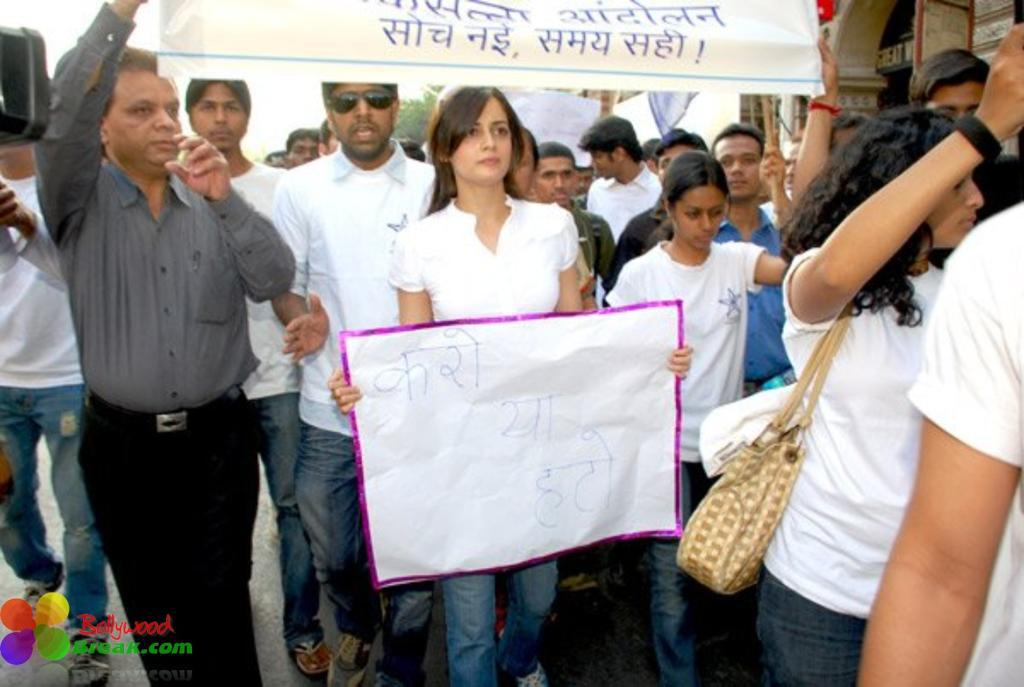face: (907, 144, 984, 250), (925, 98, 1001, 181), (112, 78, 183, 164), (329, 84, 395, 152), (452, 110, 512, 178), (191, 91, 247, 150), (481, 148, 533, 206), (676, 197, 725, 250), (714, 146, 762, 195), (327, 134, 371, 180), (659, 155, 702, 202), (535, 165, 575, 206), (785, 148, 819, 196), (591, 144, 626, 181), (291, 140, 323, 177), (589, 73, 620, 106), (570, 172, 593, 195), (266, 163, 287, 186)
